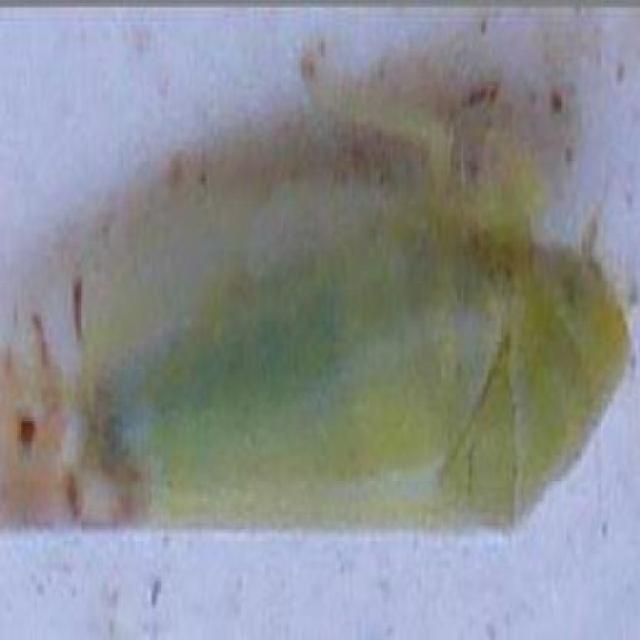green-leafhopper: (4, 205, 624, 537)
